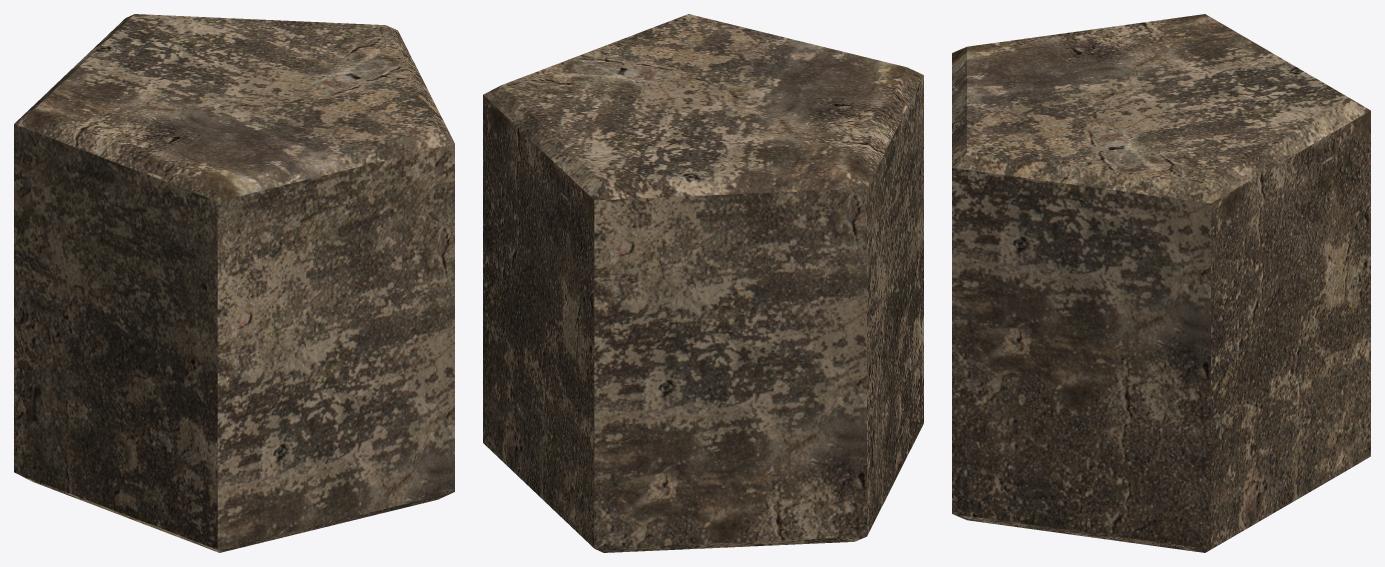
Rendered from materials_5_pedestal_5.fbx.
The picture shows the model from 3 angles, left to right: view 1: azimuth 30°, elevation 25°; view 2: azimuth 150°, elevation 25°; view 3: azimuth 270°, elevation 25°; orthographic projection.
Parts seen in each view (by area): view 1: materials_5_pedestal_5; view 2: materials_5_pedestal_5; view 3: materials_5_pedestal_5.
Part boxes in pixels (x1,y1,x2,y2): materials_5_pedestal_5: [14, 14, 454, 552]; materials_5_pedestal_5: [483, 14, 923, 552]; materials_5_pedestal_5: [952, 14, 1370, 552].
Bounding box in the file's own units: 53.48 × 49.29 × 50.87.
